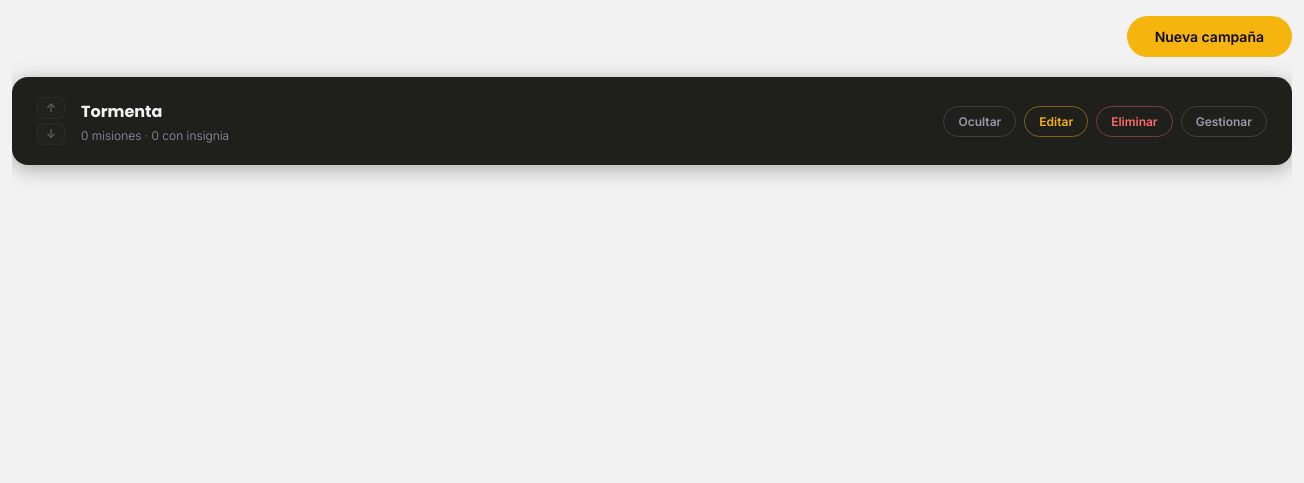
Test: granting campaign badges › leaves the checkbox alone and reports the error when granting fails
Expected: the heading "Tormenta" is shown, [81,100,162,123]
Click the button "Gestionar".
click(1224, 121)  # box [1181,106,1267,136]
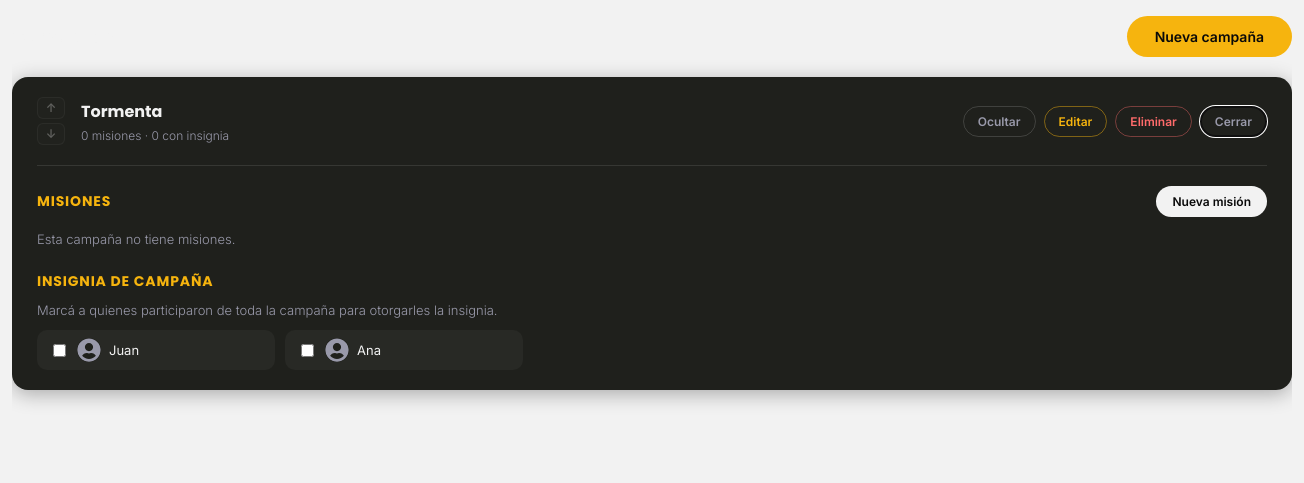
Click the checkbox labelled "Juan".
click(60, 350)  # box [53,344,66,356]
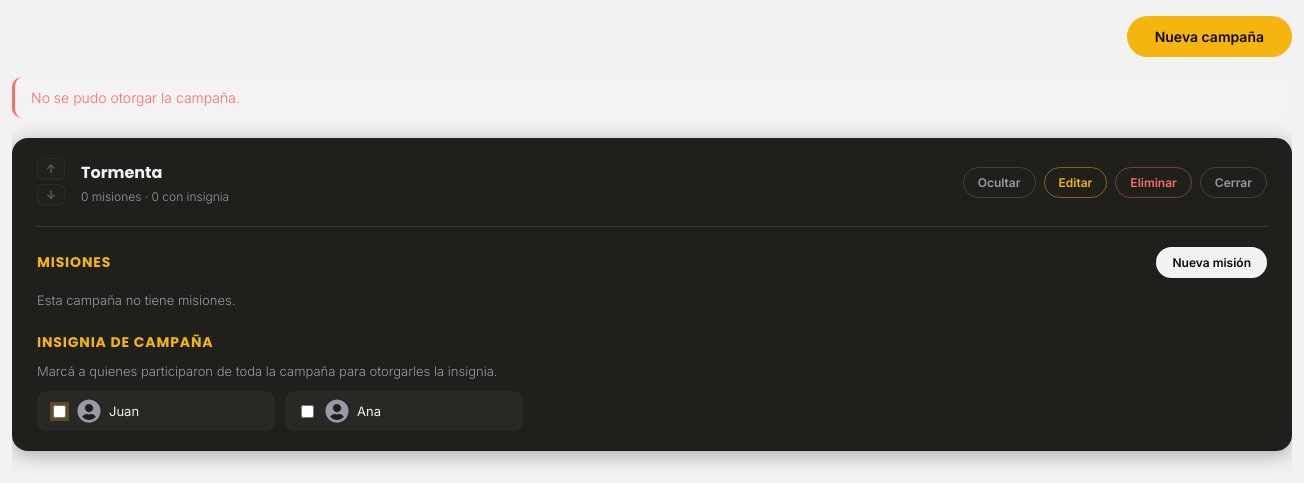
Now the checkbox labelled "Juan" is not checked, box [53,404,66,418]
Now the message shows "No se pudo otorgar", box [31,89,240,106]
